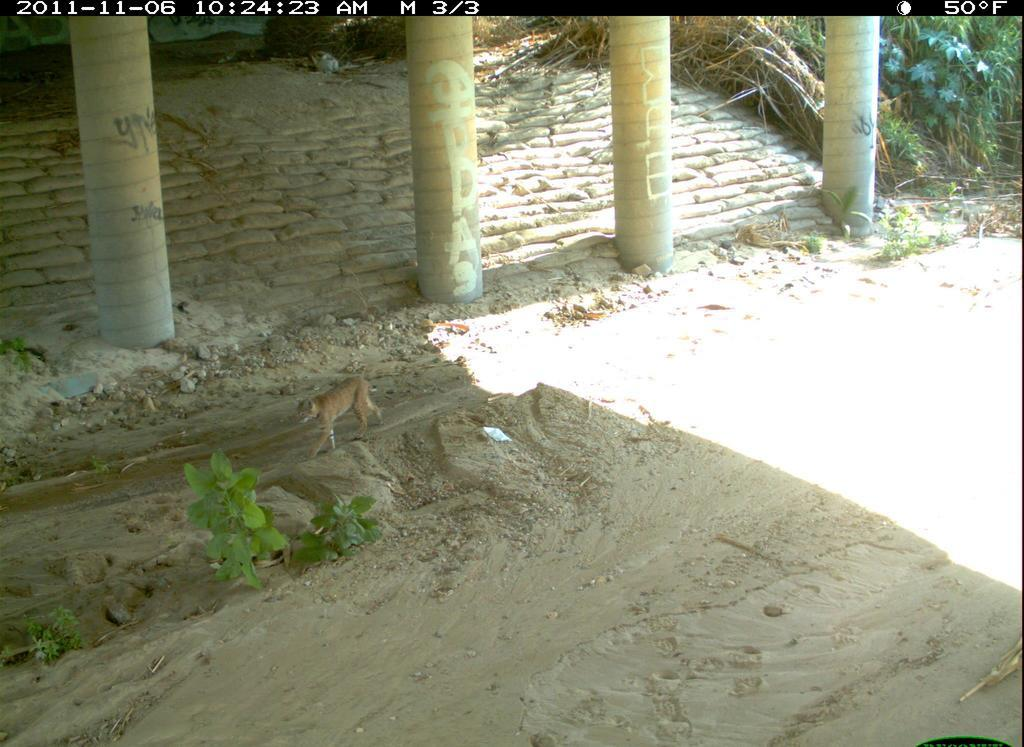bobcat: (578, 732, 780, 747)
